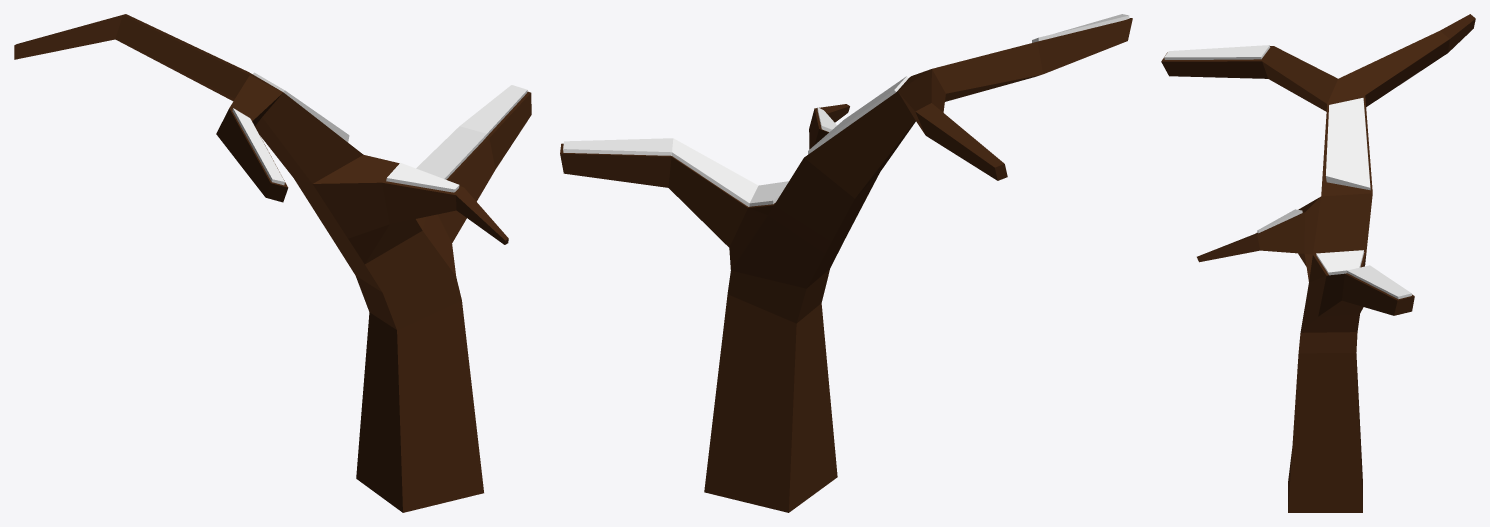
Rendered from bush.glb.
The picture shows the model from 3 angles, left to right: view 1: azimuth 30°, elevation 25°; view 2: azimuth 150°, elevation 25°; view 3: azimuth 270°, elevation 25°; orthographic projection. The views are drawn at different scales.
Visible parts, largest first — view 1: Bush; view 2: Bush; view 3: Bush.
Boxes of the visible parts, left/top/right/bottom form: Bush: left=14, top=14, right=531, bottom=512; Bush: left=560, top=14, right=1132, bottom=512; Bush: left=1161, top=14, right=1475, bottom=512.
Bounding box in the file's own units: 0.699 × 0.6695 × 0.5046.
1 material, 1 textured.
